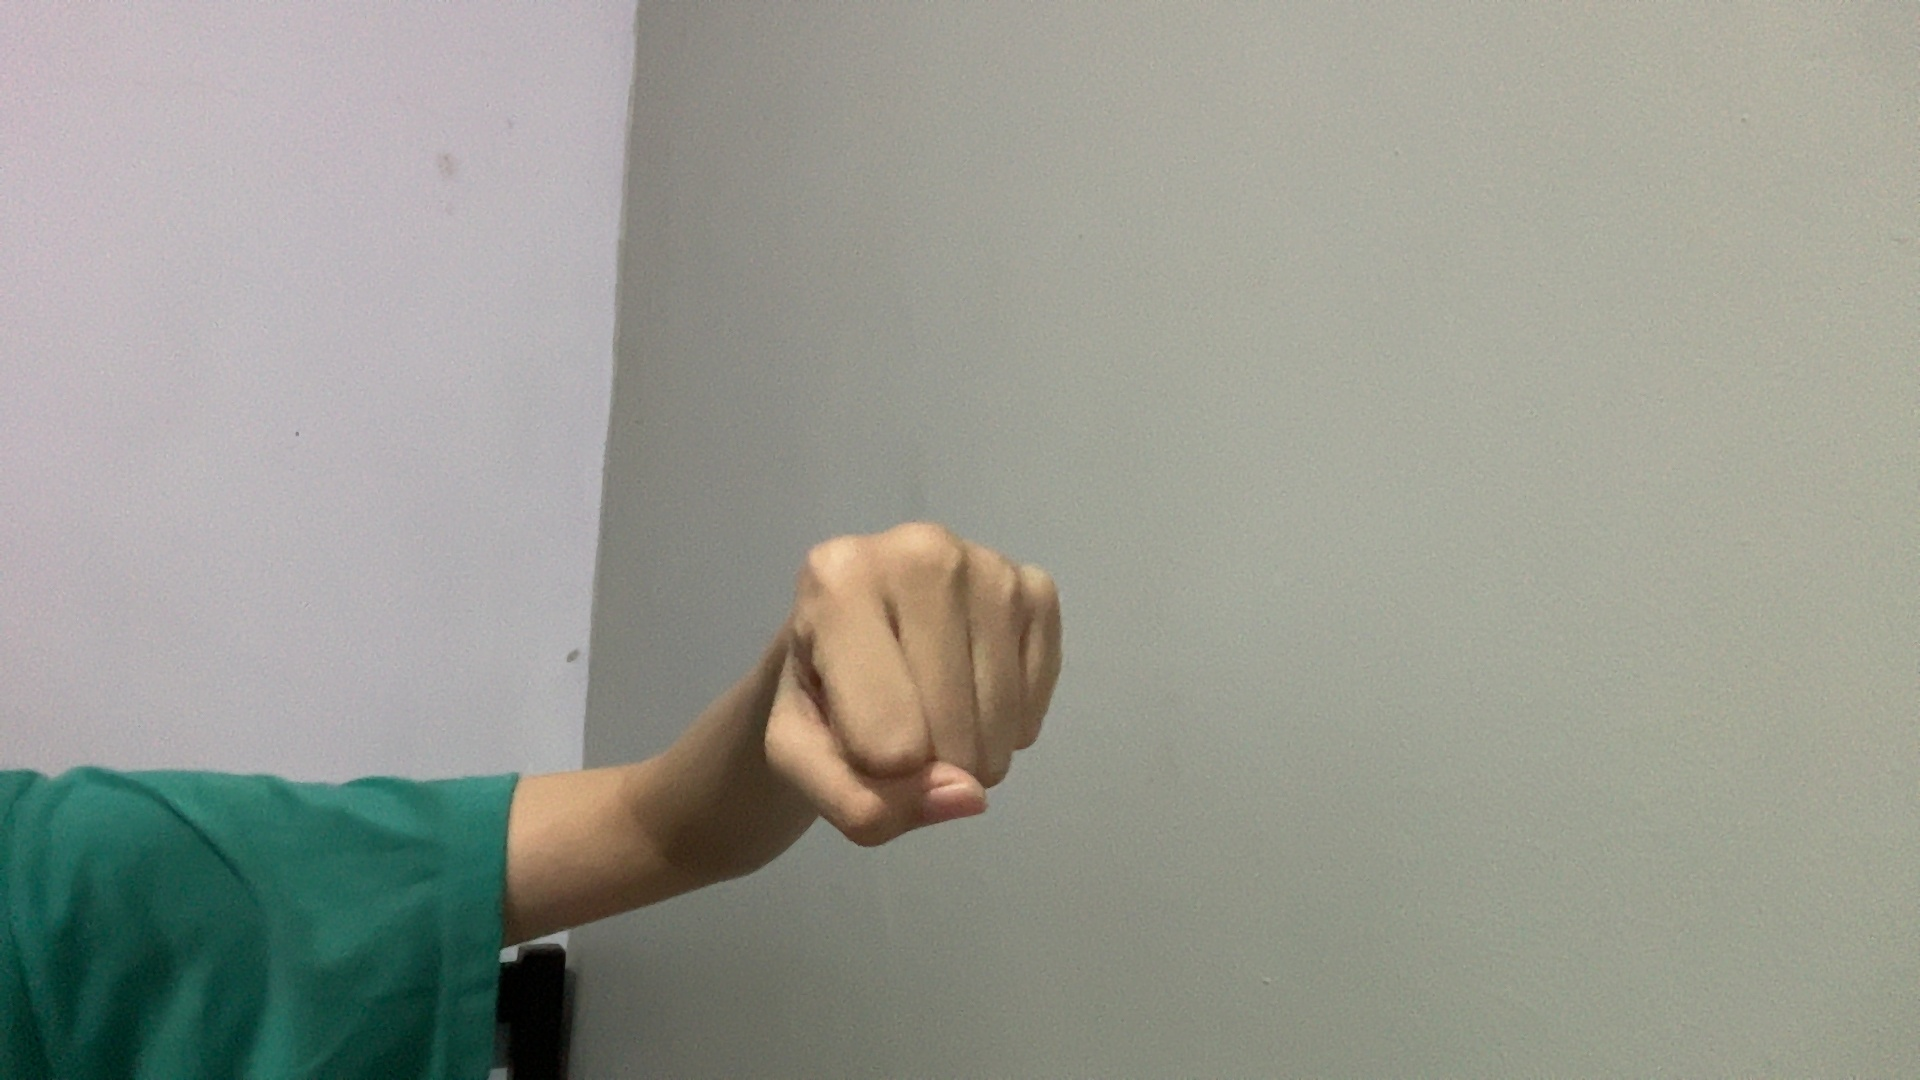Yes: (571, 405, 1255, 1021)
